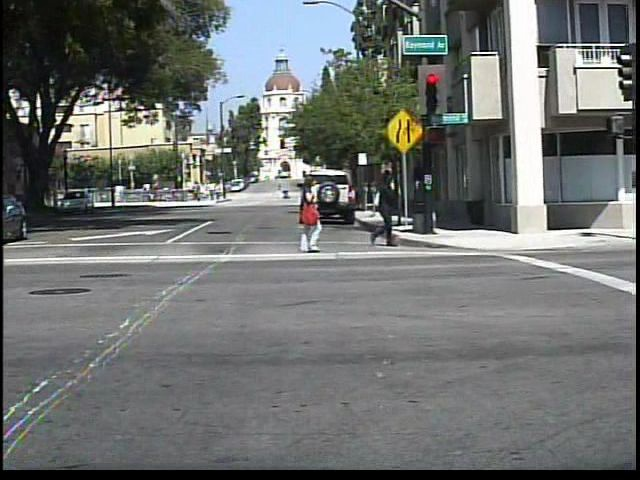person: (363, 168, 409, 250), (290, 168, 332, 252), (282, 186, 294, 204)
